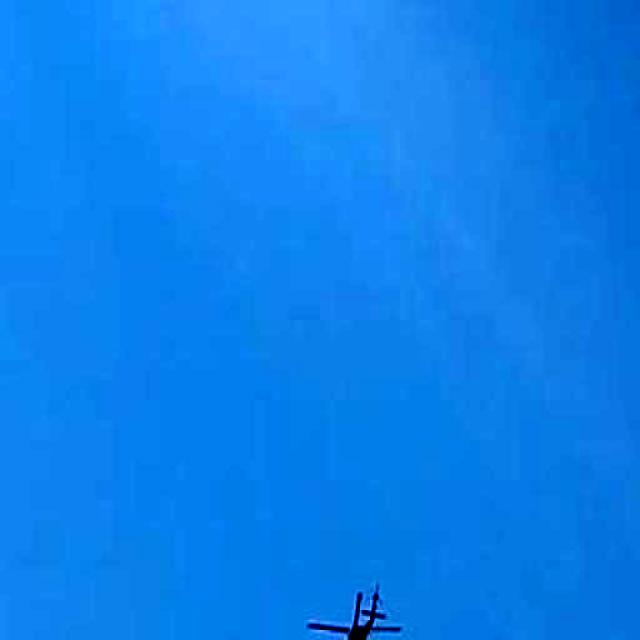drone: (301, 560, 425, 640)
